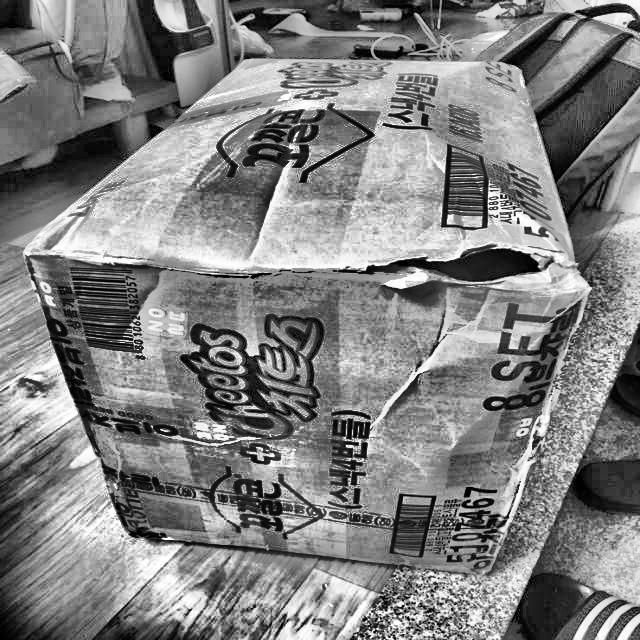box: (26, 48, 596, 586)
hole: (367, 244, 573, 312)
